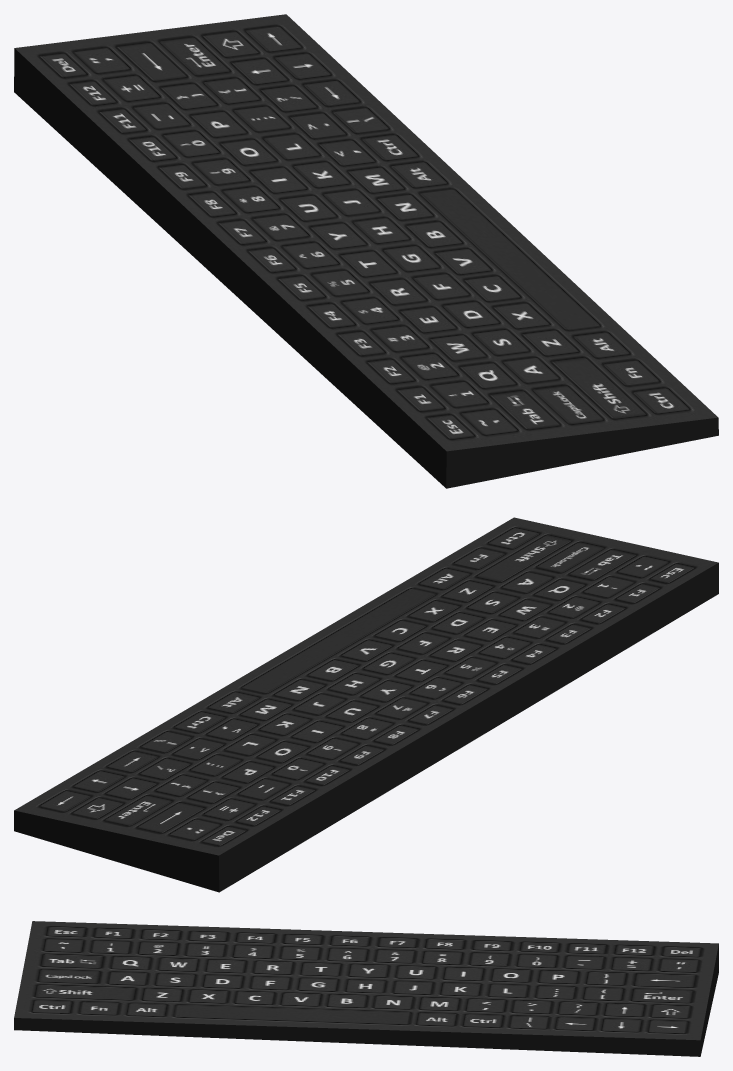
File: props_pc_keyboard.fbx
The picture shows the model from 3 angles, top to bottom: view 1: azimuth 30°, elevation 25°; view 2: azimuth 150°, elevation 25°; view 3: azimuth 270°, elevation 25°; orthographic projection. The views are drawn at different scales.
Visible parts, largest first — view 1: keyboard; view 2: keyboard; view 3: keyboard.
Part boxes in pixels (<box>): keyboard: <box>14,14,718,488</box>; keyboard: <box>14,517,718,892</box>; keyboard: <box>14,921,718,1056</box>.
Size of the model in its own units: 0.3228 by 0.0398 by 0.8662.
